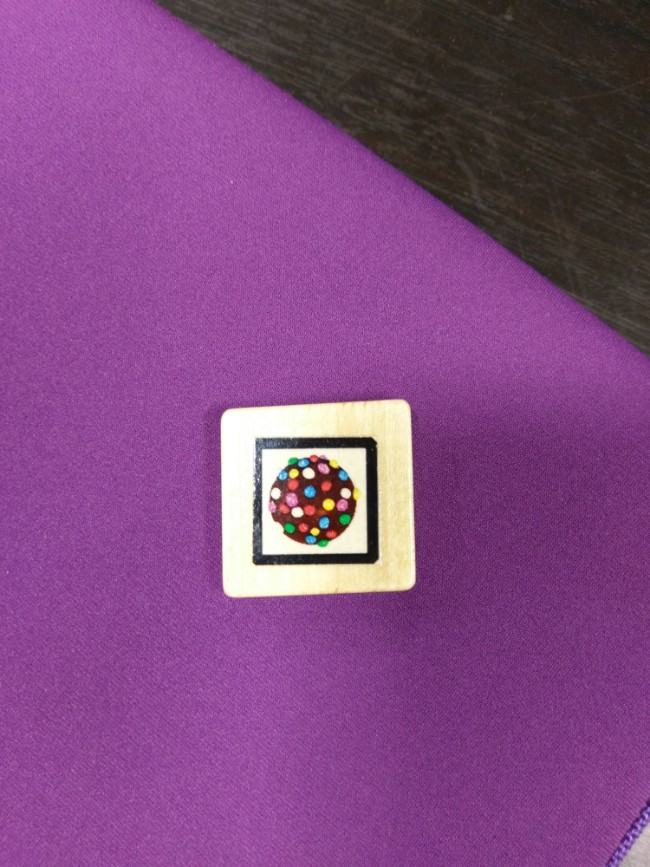cookie: (254, 439, 378, 567)
